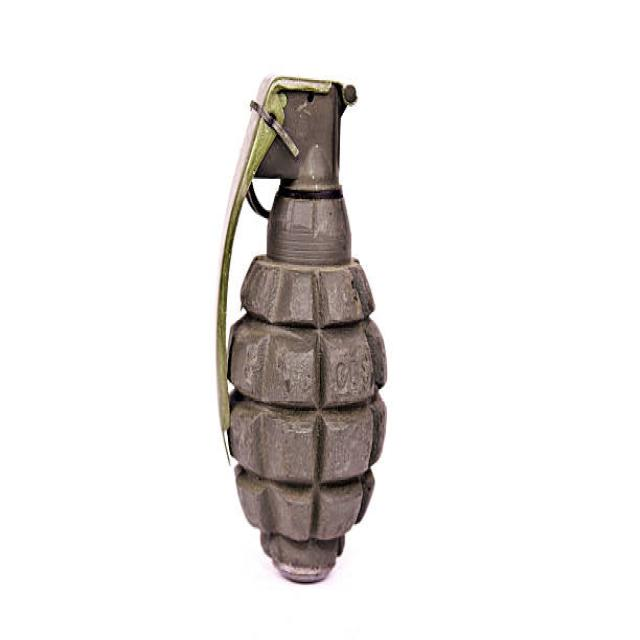grenade: (217, 71, 397, 593)
